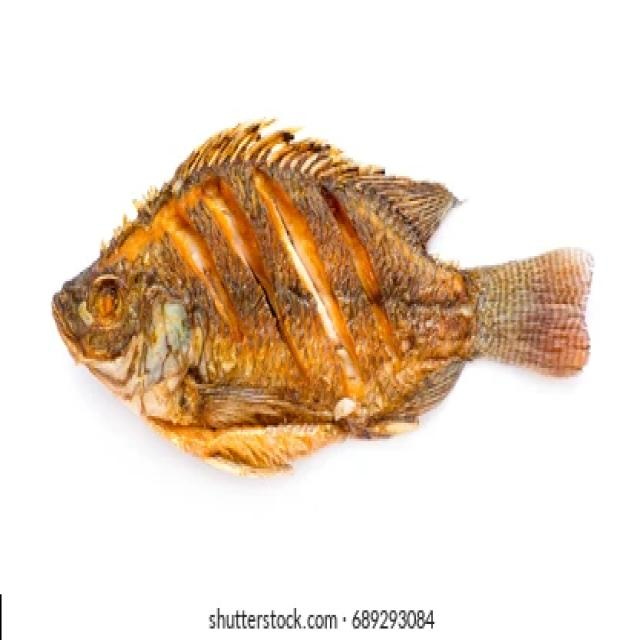Peixe: (49, 114, 596, 478)
